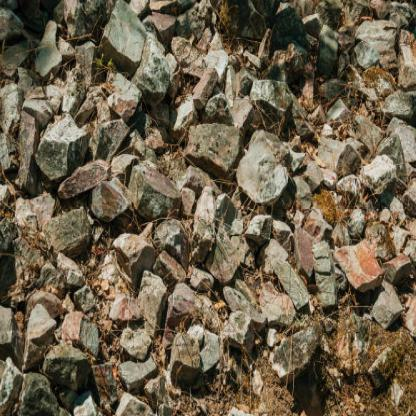Sedimentary_Limestone: (245, 126, 282, 209), (83, 16, 143, 66), (40, 118, 67, 172), (136, 277, 170, 317), (186, 130, 223, 165), (334, 240, 362, 274)
